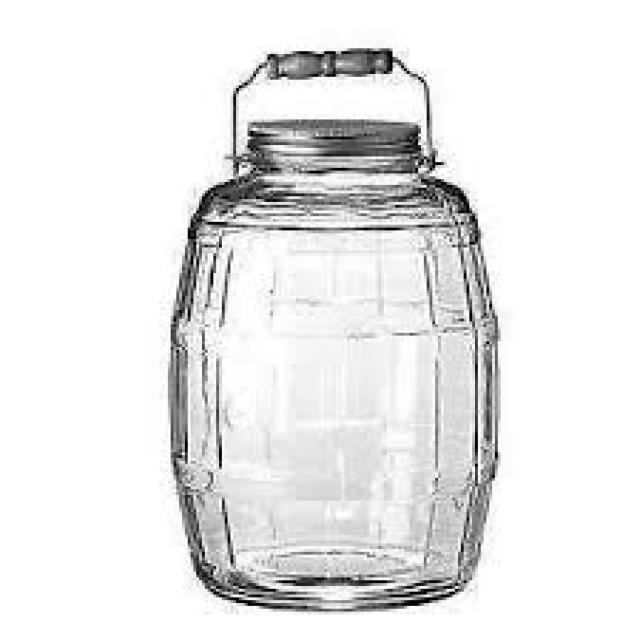glass: (168, 165, 495, 603)
metal: (242, 114, 418, 156)
